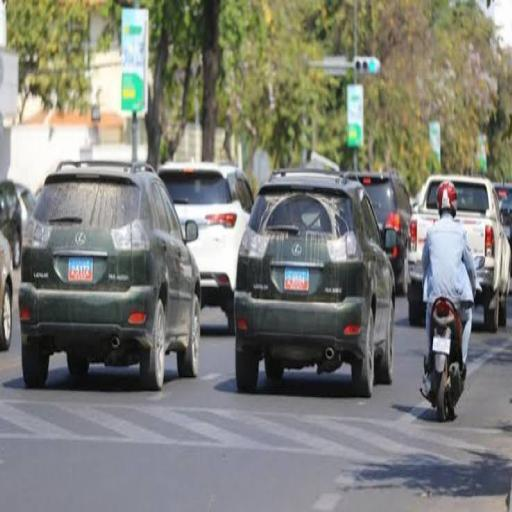Plate Number: (68, 256, 94, 284), (284, 266, 308, 292)
